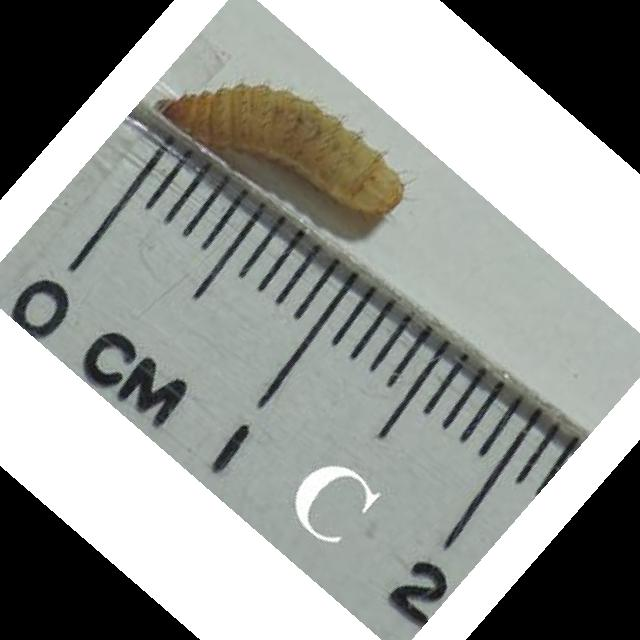Maggot: (161, 82, 408, 218)
